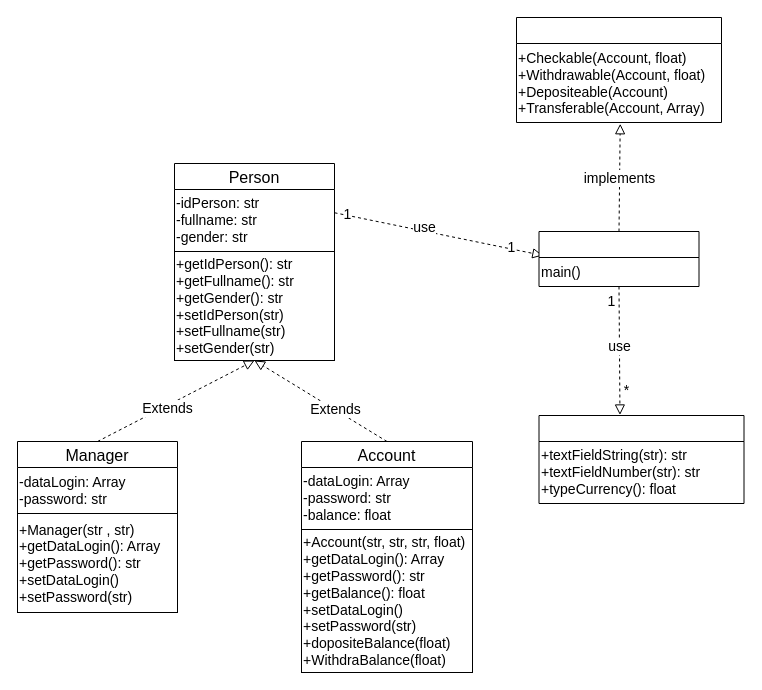
Some shapes in this 762 by 690 pixel diagram are drawn without their labels. The box of each missing label's shape, as (x1, y1, x2, y2) in pixels:
ATM: (538, 230, 699, 286)
ATMAction: (516, 16, 722, 122)
function: (538, 414, 744, 504)
